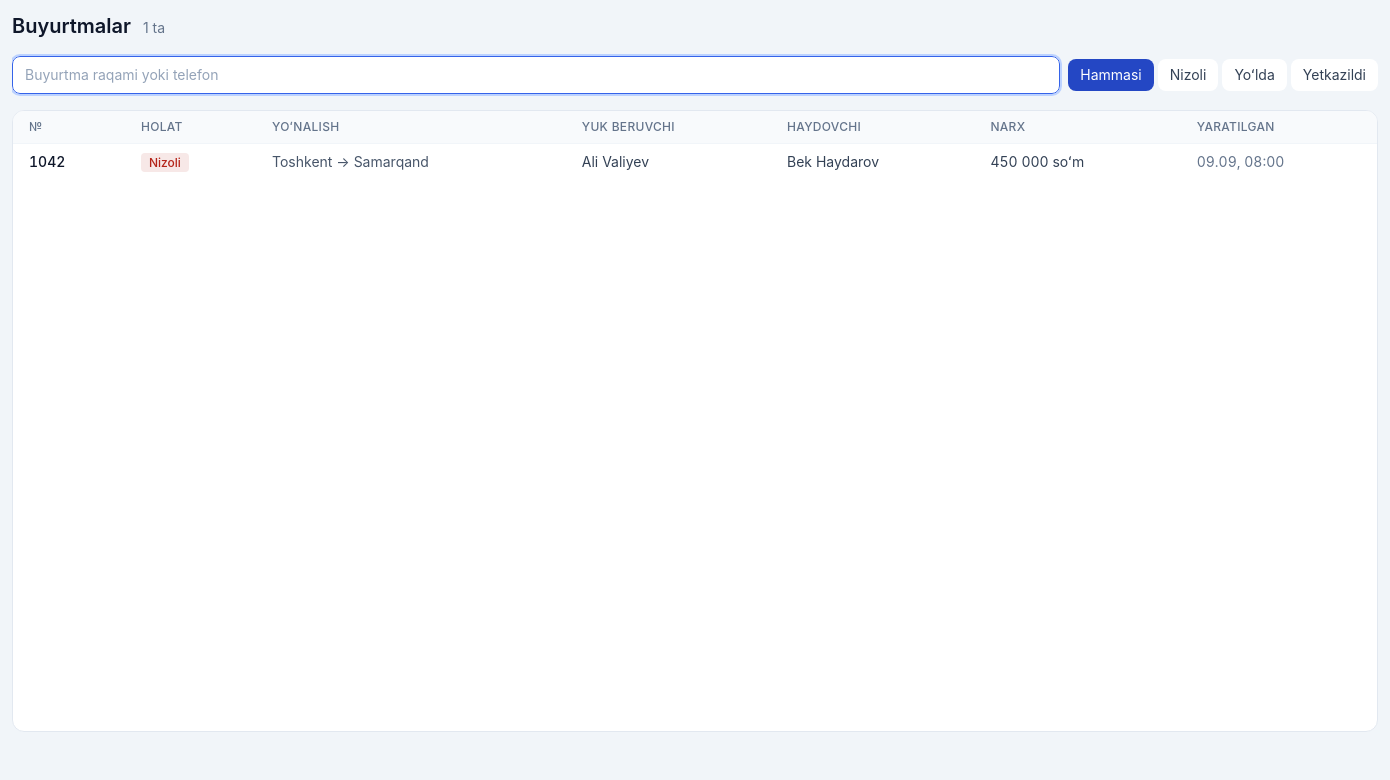
OrdersPage › ★ RAQAMLAR TALAB BOʻYICHA VA OGOHLANTIRISH BILAN
Step 1. Click the text "1042" → [47, 162], box [13,144,125,180]
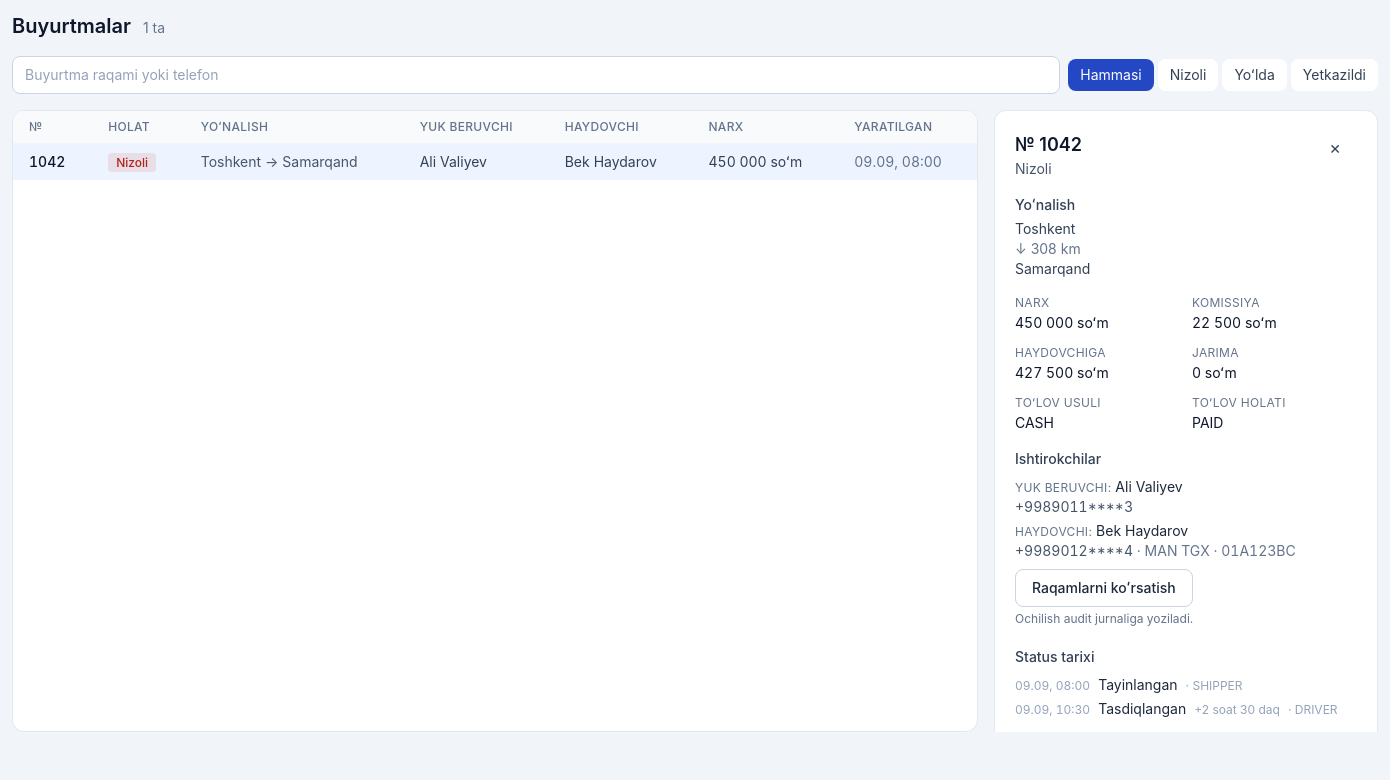
expect the text "Tayinlangan" is shown: met, box [1098,675,1178,695]
expect the text "Ochilish audit jurnaliga yoziladi." is shown 2 times: met
Step 2. Click the button "Raqamlarni koʻrsatish" → [1104, 588], box [1015,569,1193,607]
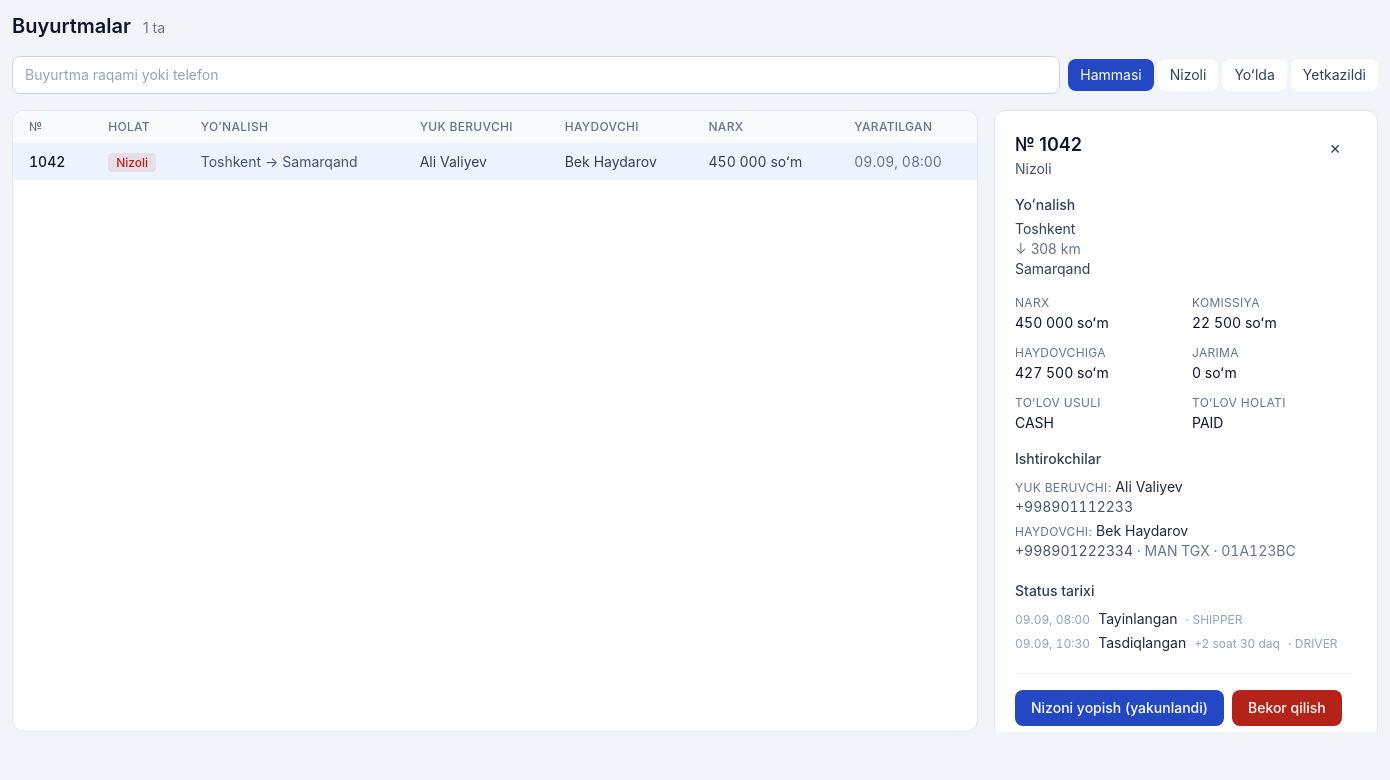
expect the text "+998901222334" is shown: met, box [1015,542,1133,559]
